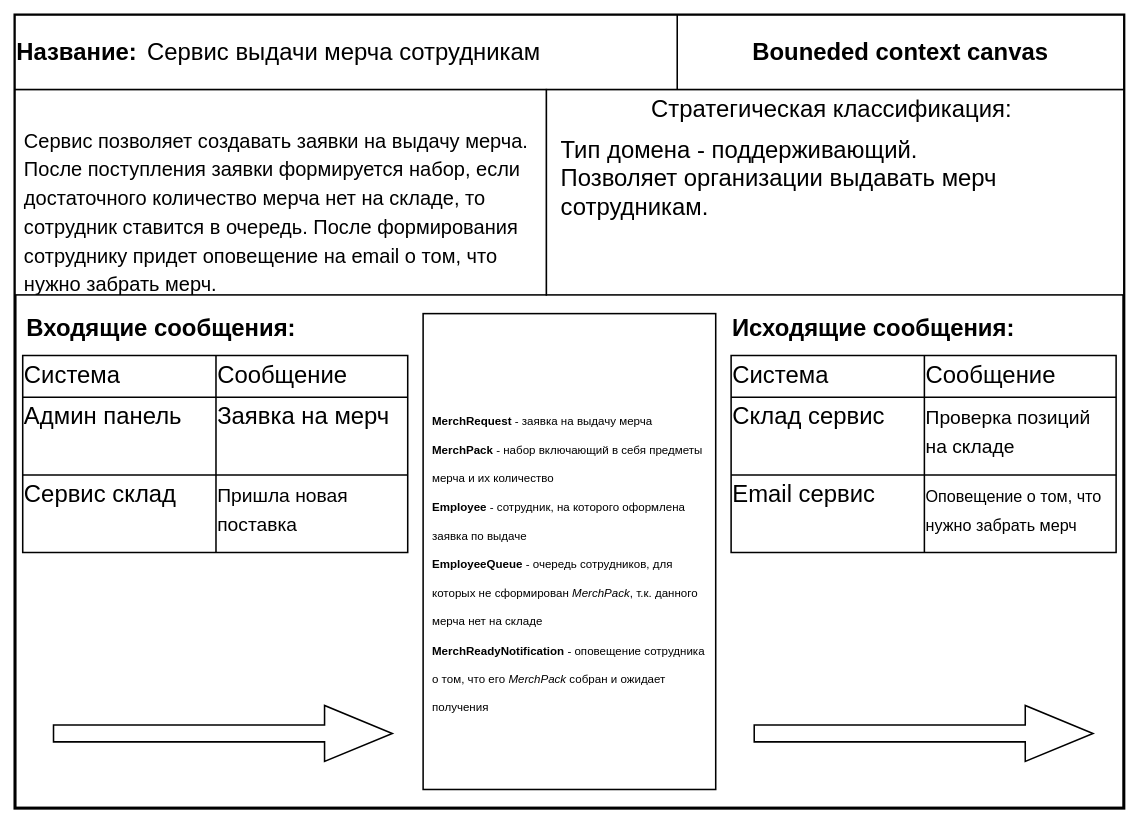
This 1138x822 diagram has some shape labels left out. The shapes that lost their labels are listed below. From the top down, each one's box as (x1, y1, x2, y2) in pixels, then its label:
(14, 88, 547, 295): Описание:
(422, 312, 716, 790): Ubiquitous Language специфическая доменная терминология
